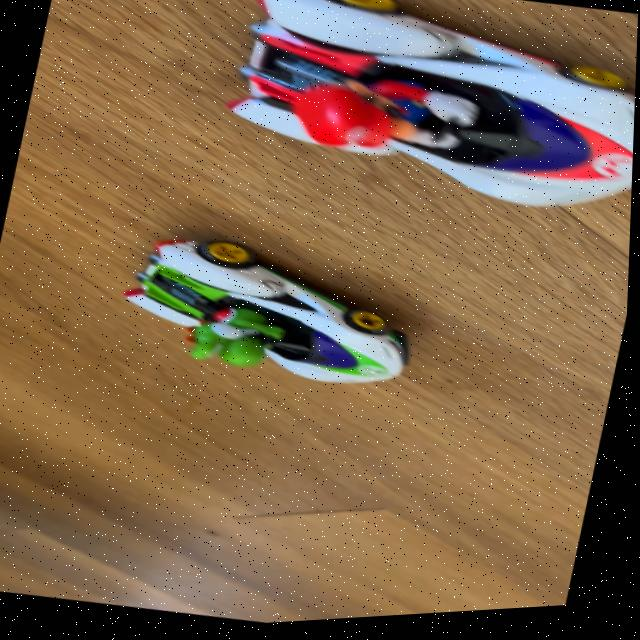mario: (181, 0, 640, 255)
yoshi: (97, 209, 450, 427)
